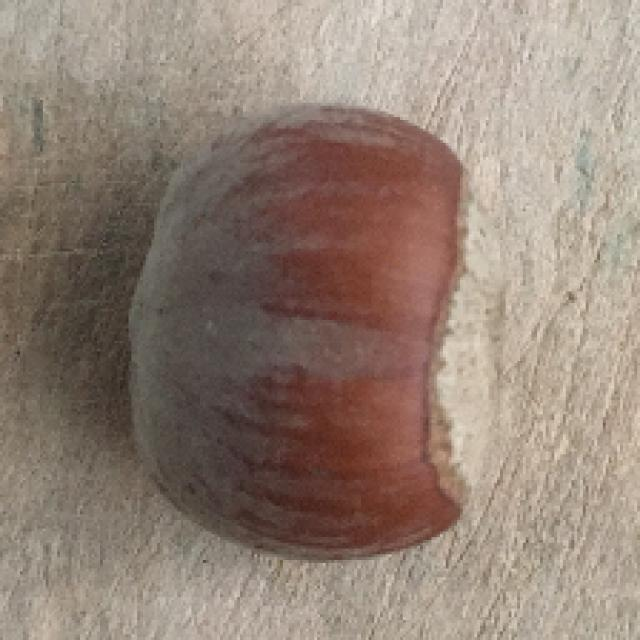QualityHazelnut: (130, 110, 509, 568)
